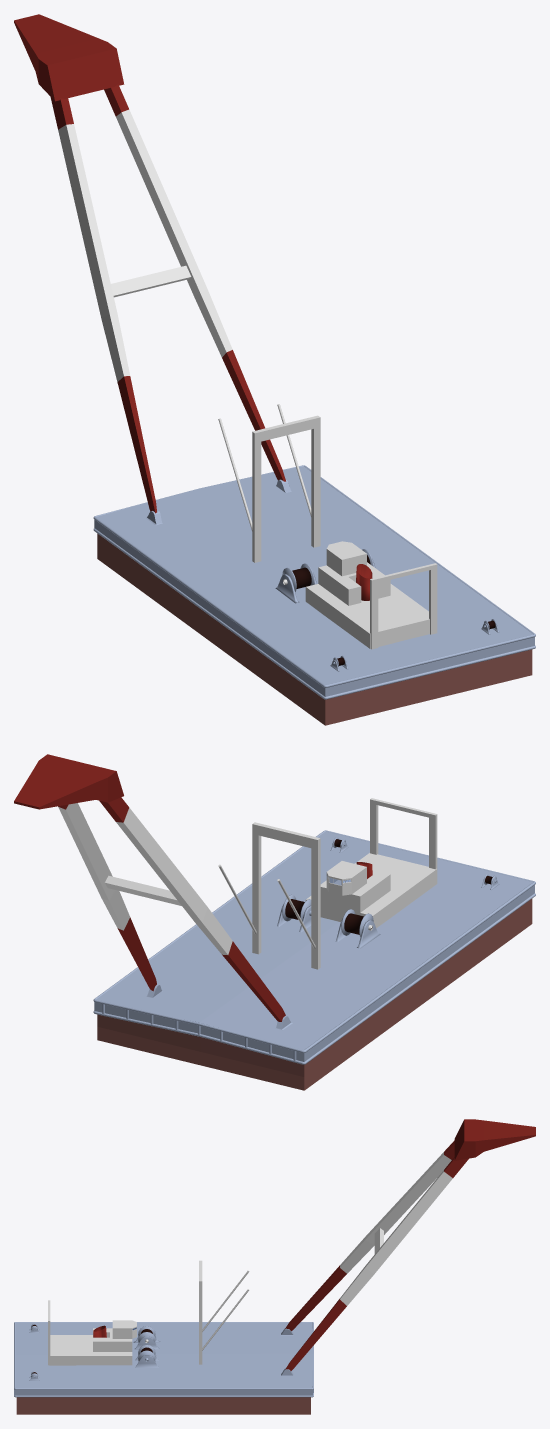
The model's file is asset.glb.
3 renders of one model, top to bottom at view 1: azimuth 30°, elevation 25°; view 2: azimuth 150°, elevation 25°; view 3: azimuth 270°, elevation 25°, orthographic. The views are drawn at different scales.
Parts seen in each view (by area): view 1: 立方体.001, 立方体.006, 立方体.007, 立方体.005, 立方体.008, 立方体.003, 立方体.002, 立方体.009, 立方体.010, 立方体.019, 円柱.023, 円柱.030; view 2: 立方体.001, 立方体.006, 立方体.007, 立方体.005, 立方体.003, 立方体.008, 立方体.009, 立方体.002, 立方体.019, 円柱.023, 立方体.010, 円柱.030 (+3 smaller); view 3: 立方体.001, 立方体.005, 立方体.006, 立方体.007, 立方体.008, 円柱.031, 立方体.009, 円柱.024, 立方体.019, 立方体.003.
Boxes of the visible parts, x1,y1,x2,y2 form: 立方体.001: [94, 466, 534, 725]; 立方体.006: [50, 97, 156, 513]; 立方体.007: [14, 14, 124, 101]; 立方体.005: [104, 84, 285, 481]; 立方体.008: [305, 584, 429, 648]; 立方体.003: [252, 415, 320, 562]; 立方体.002: [370, 563, 437, 649]; 立方体.009: [318, 562, 390, 605]; 立方体.010: [111, 265, 191, 297]; 立方体.019: [326, 541, 366, 576]; 円柱.023: [94, 517, 324, 686]; 円柱.030: [94, 528, 323, 698]; 立方体.001: [94, 831, 534, 1090]; 立方体.006: [99, 797, 285, 1021]; 立方体.007: [14, 754, 123, 809]; 立方体.005: [58, 803, 156, 991]; 立方体.003: [252, 822, 320, 969]; 立方体.008: [305, 853, 437, 928]; 立方体.009: [320, 871, 390, 912]; 立方体.002: [370, 798, 437, 869]; 立方体.019: [326, 861, 366, 895]; 円柱.023: [304, 882, 535, 1051]; 立方体.010: [105, 875, 181, 905]; 円柱.030: [305, 893, 535, 1063]; 立方体.001: [15, 1322, 312, 1414]; 立方体.005: [285, 1157, 468, 1370]; 立方体.006: [285, 1140, 454, 1331]; 立方体.007: [454, 1119, 535, 1160]; 立方体.008: [49, 1335, 132, 1365]; 円柱.031: [16, 1395, 311, 1397]; 立方体.009: [93, 1328, 132, 1351]; 円柱.024: [16, 1388, 311, 1389]; 立方体.019: [112, 1320, 136, 1338]; 立方体.003: [199, 1260, 202, 1364].
Bounding box in the file's own units: 32.4 × 56.82 × 107.
